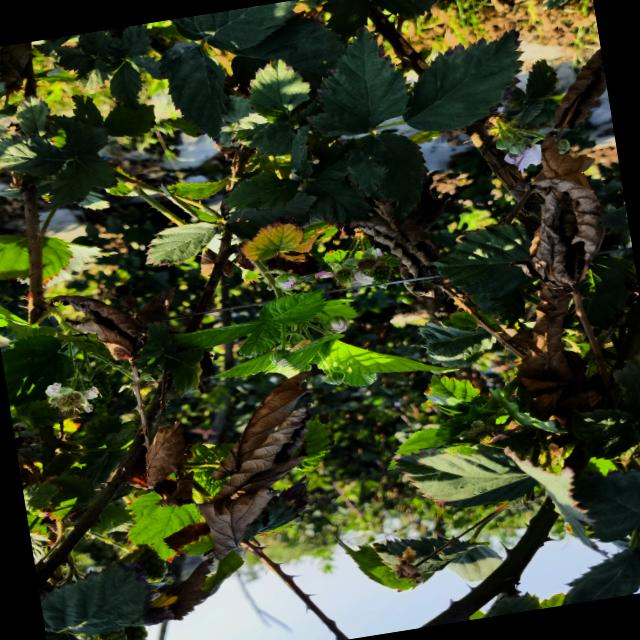boton: (276, 273, 303, 290), (324, 316, 348, 333), (270, 349, 290, 366), (326, 372, 345, 385)
